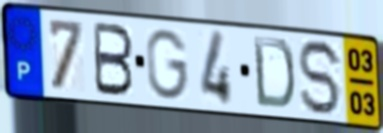4: (197, 28, 235, 111)
7: (47, 17, 86, 94)
B: (92, 19, 136, 99)
D: (250, 33, 297, 112)
G: (144, 26, 191, 102)
S: (296, 37, 345, 118)
